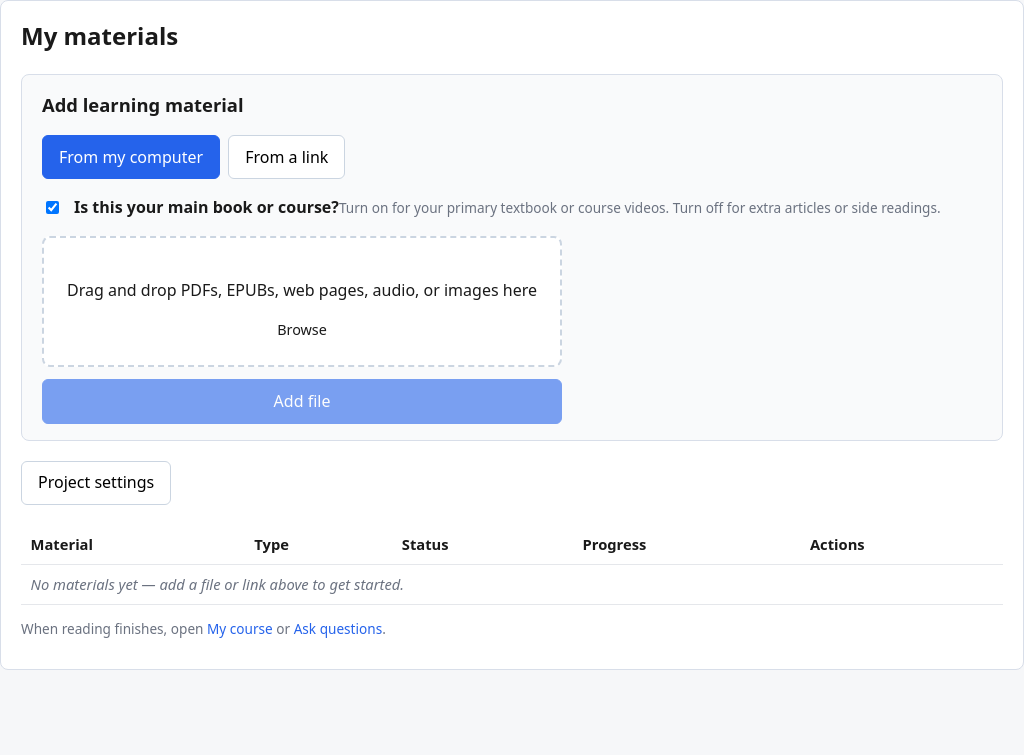
CorpusView › warns when synthesis is enqueued but the worker is offline
This screenshot has width=1024, height=755.
Expected: the heading "My materials" is shown, [21, 19, 178, 52]
Click the button "Project settings": x=96, y=483 [21, 461, 171, 505]
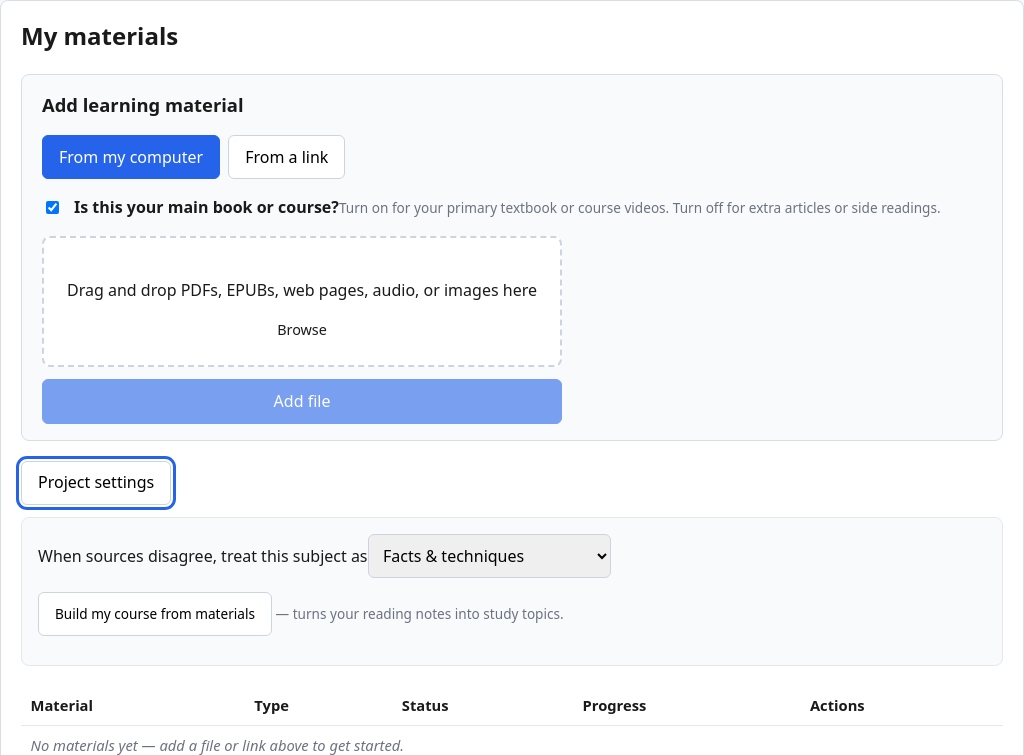
Click the button "Build my course from materials": x=155, y=614 [38, 592, 272, 636]
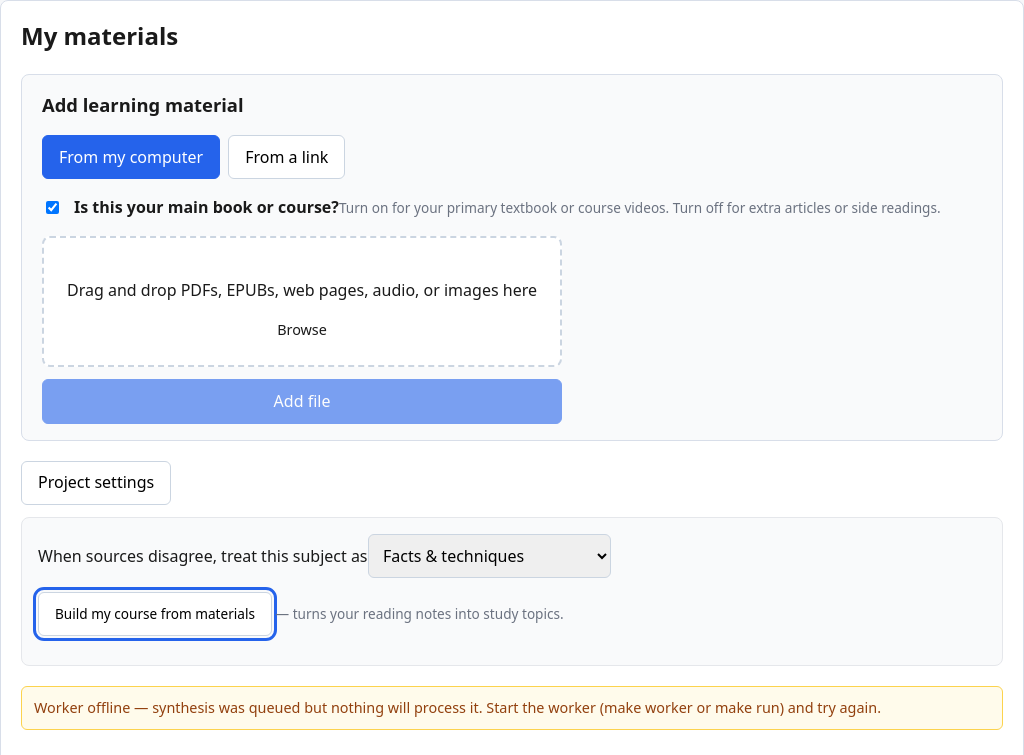
Expected: the text "Worker offline" is shown, [34, 698, 881, 717]
